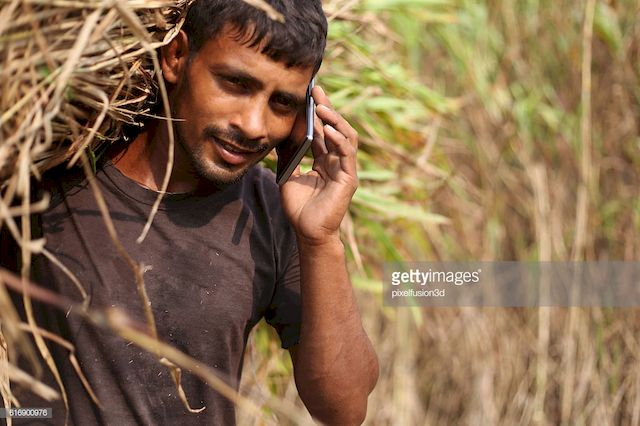phone: (289, 83, 317, 174)
talk: (190, 58, 359, 240)
